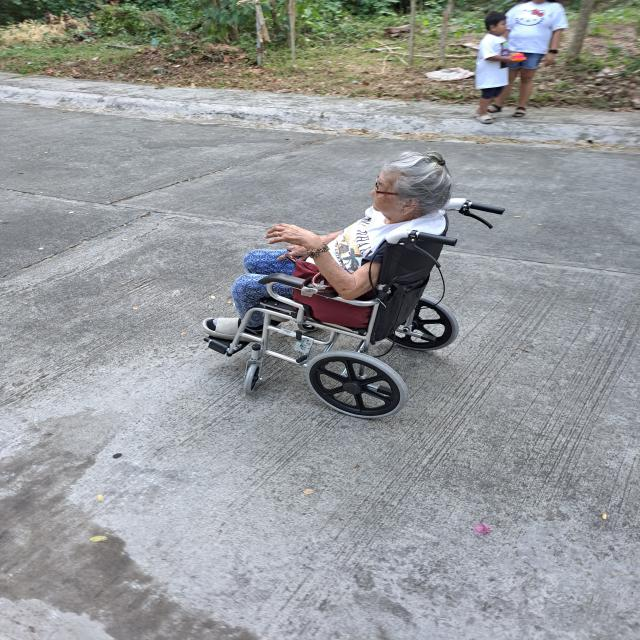wheelchairs: (190, 196, 513, 419)
